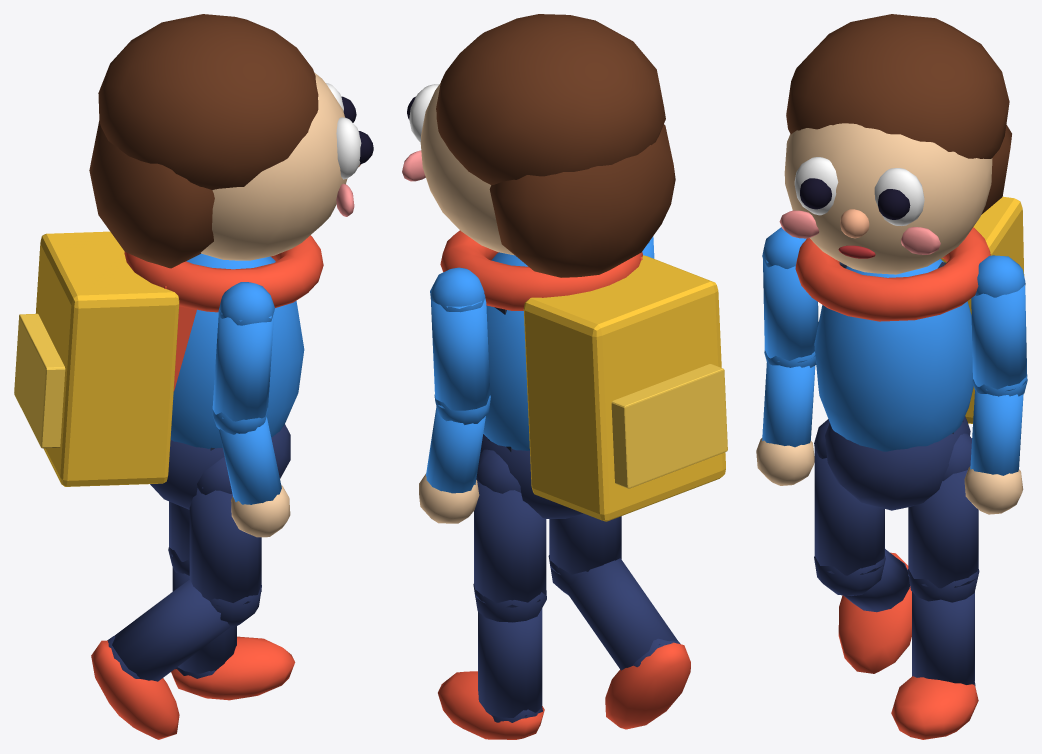
File: hrdina_chuze.glb
3 renders of one model, left to right at view 1: azimuth 30°, elevation 25°; view 2: azimuth 150°, elevation 25°; view 3: azimuth 270°, elevation 25°, orthographic. The views are drawn at different scales.
Parts seen in each view (by area): view 1: Sphere.011, Cube.001, Sphere.002, Sphere.012, Sphere, Torus, Cylinder.005, Cylinder.004, Cylinder, Cube.002, Sphere.030, Sphere.025 (+11 smaller); view 2: Cube.001, Sphere.011, Sphere.012, Cube.002, Cylinder.006, Cylinder.005, Cylinder.007, Sphere, Torus, Cylinder.002, Sphere.002, Sphere.025 (+11 smaller); view 3: Sphere.011, Sphere, Sphere.002, Torus, Sphere.001, Cylinder.006, Cylinder.004, Cylinder.007, Cylinder.002, Cylinder, Sphere.025, Sphere.030 (+21 smaller).
Part boxes in pixels (x1,y1,x2,y2): Sphere.011: [98, 14, 318, 190]; Cube.001: [35, 231, 179, 486]; Sphere.002: [201, 73, 347, 260]; Sphere.012: [89, 121, 214, 268]; Sphere: [170, 253, 304, 448]; Torus: [124, 235, 323, 312]; Cylinder.005: [109, 579, 230, 681]; Cylinder.004: [189, 487, 261, 606]; Cylinder: [212, 308, 274, 421]; Cube.002: [14, 313, 65, 448]; Sphere.030: [171, 636, 295, 700]; Sphere.025: [91, 640, 179, 739]; Cube.001: [523, 255, 725, 521]; Sphere.011: [436, 14, 665, 185]; Sphere.012: [489, 124, 675, 277]; Cube.002: [611, 364, 727, 488]; Cylinder.006: [474, 481, 546, 607]; Cylinder.005: [567, 558, 677, 670]; Cylinder.007: [478, 608, 542, 717]; Sphere: [483, 252, 529, 450]; Torus: [440, 230, 642, 310]; Cylinder.002: [430, 298, 490, 410]; Sphere.002: [420, 83, 514, 255]; Sphere.025: [605, 642, 690, 729]; Sphere.011: [786, 14, 1009, 158]; Sphere: [814, 259, 973, 451]; Sphere.002: [784, 123, 992, 274]; Torus: [795, 227, 990, 321]; Sphere.001: [825, 416, 970, 510]; Cylinder.006: [908, 470, 978, 588]; Cylinder.004: [814, 448, 884, 575]; Cylinder.007: [912, 592, 974, 684]; Cylinder.002: [971, 280, 1027, 391]; Cylinder: [763, 259, 818, 362]; Sphere.025: [838, 552, 911, 673]; Sphere.030: [891, 676, 978, 739].
Size of the model in its own units: 0.6011 by 1.27 by 0.4564.
